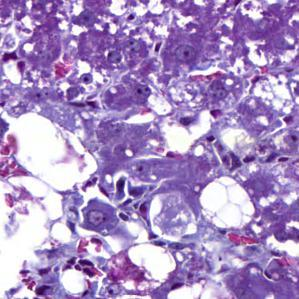ballooning: (107, 242, 178, 292), (199, 175, 257, 232)
